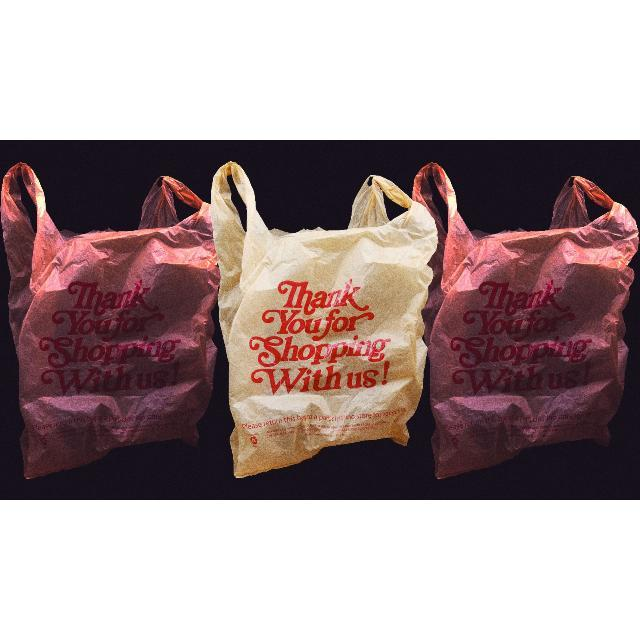plastic: (0, 163, 637, 478)
